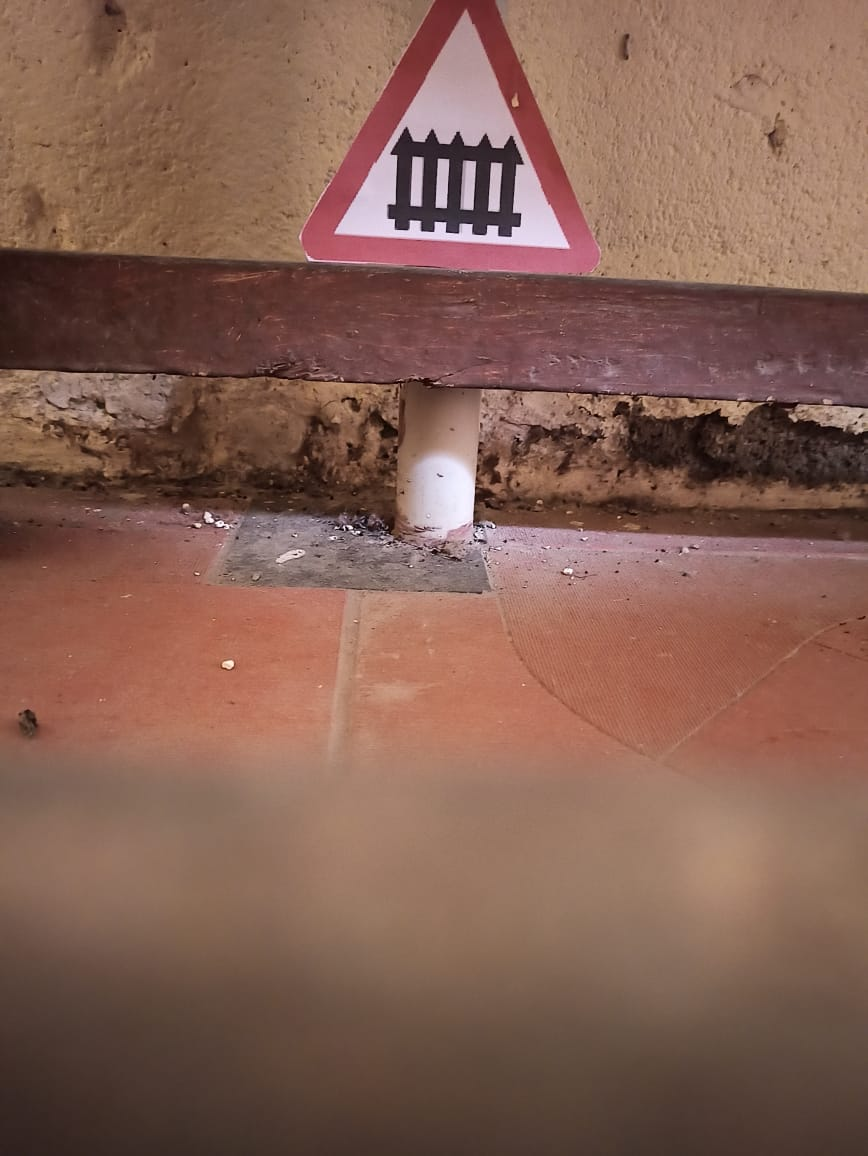GUARDED LEVEL CROSSING: (290, 1, 615, 281)
